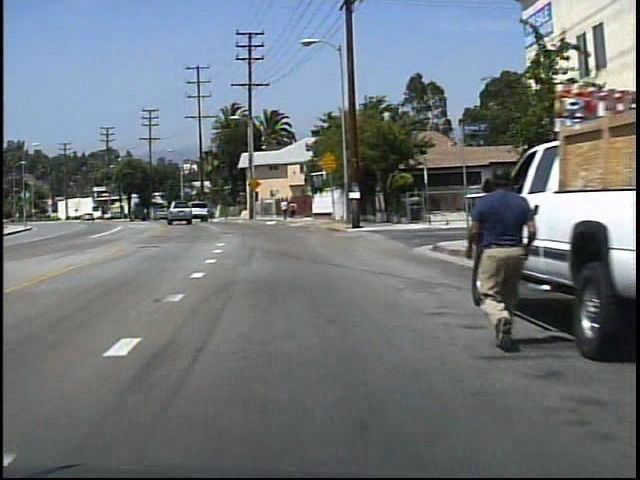person: (459, 161, 530, 353), (278, 196, 289, 221), (287, 199, 297, 220)
